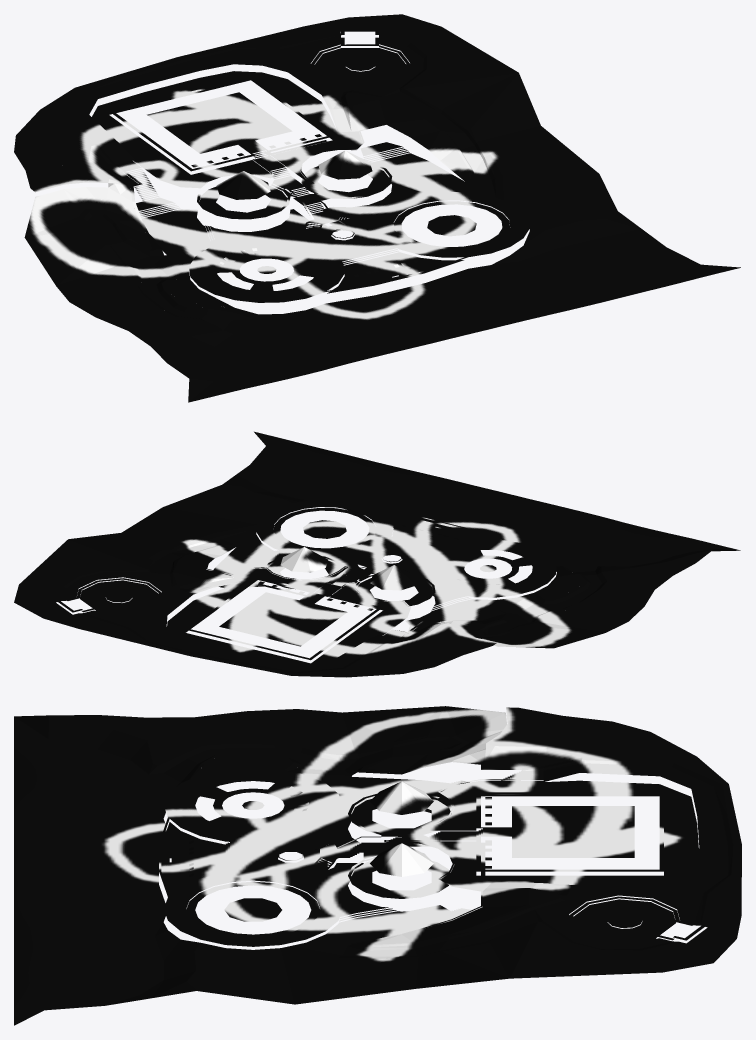
Rendered from pollution00_bake.dae.
The picture shows the model from 3 angles, top to bottom: view 1: azimuth 30°, elevation 25°; view 2: azimuth 150°, elevation 25°; view 3: azimuth 270°, elevation 25°; orthographic projection. The views are drawn at different scales.
Parts seen in each view (by area): view 1: m0; view 2: m0; view 3: m0.
Part boxes in pixels (box(x1,y1,x2,y2)): m0: box(14, 14, 740, 402); m0: box(14, 431, 740, 677); m0: box(14, 706, 741, 1025).
Size of the model in its own units: 16384 by 1524 by 16287.
3 materials, 3 textured.
